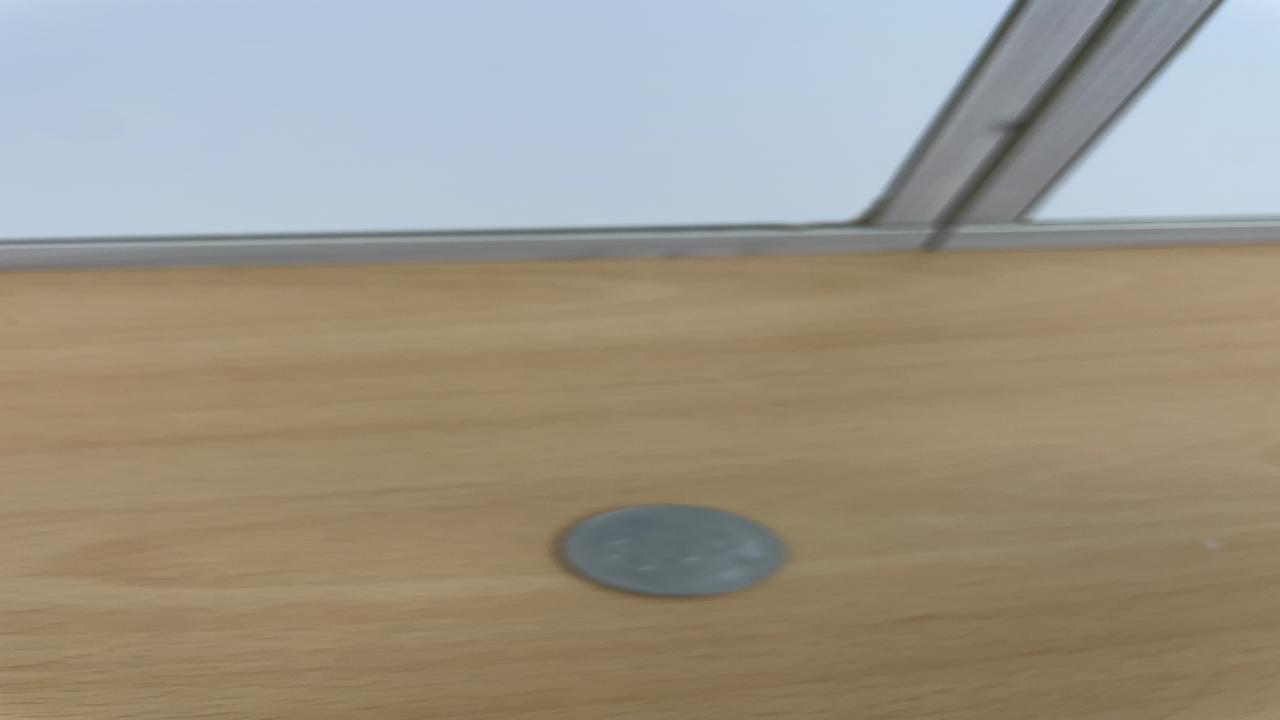coin: (554, 502, 788, 598)
